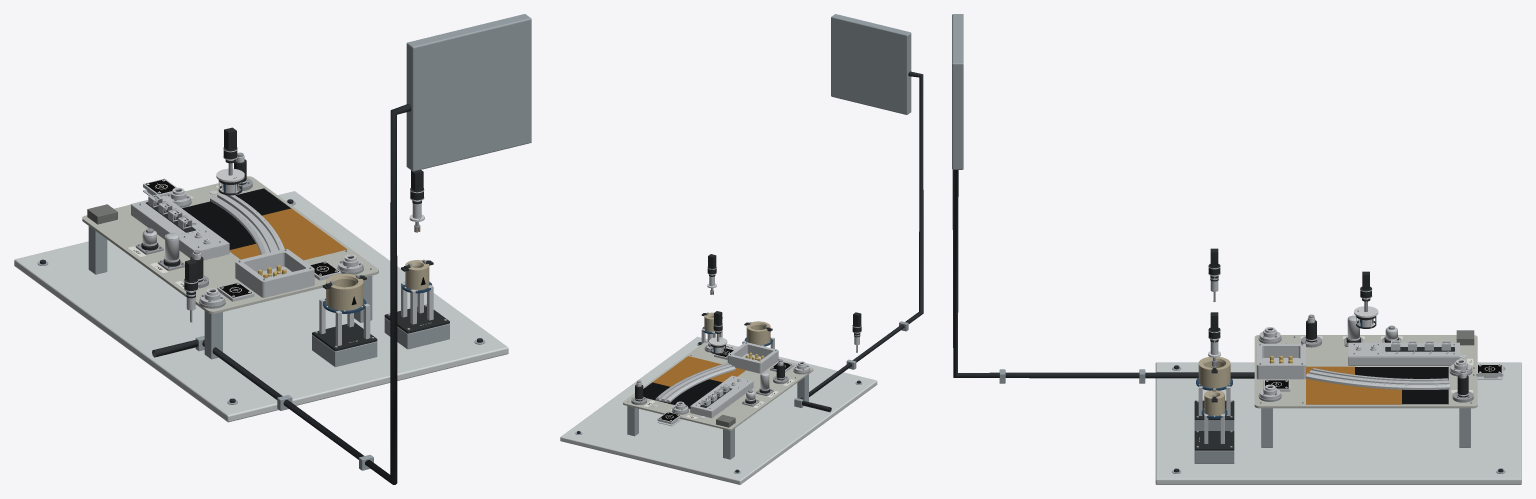
File: rrm_tb1.glb
3 views of the same model, side by side, from view 1: azimuth 30°, elevation 25°; view 2: azimuth 150°, elevation 25°; view 3: azimuth 270°, elevation 25° (orthographic). The views are drawn at different scales.
Parts seen in each view (by area): view 1: RRM cabin wall load-spreading backplate, RRM cabin floor foundation plate, RRM_TB1_Base_plate, RRM cabin floor supply loom, RRM_TB1_SMA_array_housing, RRM_TB1_Right_amber_thermal_surface, RRM_TB1_Marman_curved_double_channel, RRM_TB1_Fastener_block_front_sheet, RRM_TB1_Left_black_thermal_surface, STOW_fdv1_open_guide_shoulder, RRM cabin stowage wall spacer, RRM cabin stowage wall spacer.001 (+7 smaller); view 2: RRM cabin wall load-spreading backplate, RRM cabin floor foundation plate, RRM_TB1_Base_plate, RRM cabin floor supply loom, RRM_TB1_SMA_array_housing, RRM_TB1_Marman_curved_double_channel, RRM_TB1_Right_amber_thermal_surface, RRM_TB1_Fastener_block_front_sheet, RRM_TB1_Left_black_thermal_surface, STOW_fdv1_open_guide_shoulder, RRM_TB1_Fastener_block_back; view 3: RRM cabin wall load-spreading backplate, RRM_TB1_Base_plate, RRM cabin floor supply loom, RRM cabin floor foundation plate, RRM_TB1_Right_amber_thermal_surface, RRM_TB1_SMA_array_housing, RRM_TB1_Marman_curved_double_channel, RRM_TB1_Fastener_block_front_sheet, RRM_TB1_Left_black_thermal_surface, RRM_TB1_Fastener_block_back, STOW_fdv1_open_guide_shoulder, STOW_sma_table_foot (+1 smaller).
Boxes of the visible parts, x1,y1,x2,y2 form: RRM cabin wall load-spreading backplate: [14, 191, 508, 422]; RRM cabin floor foundation plate: [406, 14, 531, 171]; RRM_TB1_Base_plate: [82, 176, 378, 313]; RRM cabin floor supply loom: [152, 103, 411, 484]; RRM_TB1_SMA_array_housing: [235, 249, 314, 297]; RRM_TB1_Right_amber_thermal_surface: [262, 208, 347, 260]; RRM_TB1_Marman_curved_double_channel: [210, 193, 284, 254]; RRM_TB1_Fastener_block_front_sheet: [130, 196, 229, 251]; RRM_TB1_Left_black_thermal_surface: [182, 201, 255, 249]; STOW_fdv1_open_guide_shoulder: [326, 273, 363, 310]; RRM cabin stowage wall spacer: [312, 335, 377, 366]; RRM cabin stowage wall spacer.001: [384, 317, 449, 349]; RRM cabin wall load-spreading backplate: [560, 336, 877, 484]; RRM cabin floor foundation plate: [831, 14, 911, 114]; RRM_TB1_Base_plate: [623, 342, 813, 430]; RRM cabin floor supply loom: [800, 71, 923, 412]; RRM_TB1_SMA_array_housing: [727, 342, 778, 373]; RRM_TB1_Marman_curved_double_channel: [655, 363, 735, 402]; RRM_TB1_Right_amber_thermal_surface: [652, 356, 719, 386]; RRM_TB1_Fastener_block_front_sheet: [690, 375, 753, 411]; RRM_TB1_Left_black_thermal_surface: [667, 379, 722, 408]; STOW_fdv1_open_guide_shoulder: [746, 321, 770, 345]; RRM_TB1_Fastener_block_back: [690, 382, 753, 418]; RRM cabin wall load-spreading backplate: [1155, 362, 1521, 484]; RRM_TB1_Base_plate: [1254, 335, 1477, 408]; RRM cabin floor supply loom: [952, 170, 1254, 378]; RRM cabin floor foundation plate: [952, 14, 963, 169]; RRM_TB1_Right_amber_thermal_surface: [1306, 383, 1401, 404]; RRM_TB1_SMA_array_housing: [1256, 343, 1305, 379]; RRM_TB1_Marman_curved_double_channel: [1305, 368, 1450, 389]; RRM_TB1_Fastener_block_front_sheet: [1348, 342, 1459, 357]; RRM_TB1_Left_black_thermal_surface: [1355, 367, 1448, 380]; RRM_TB1_Fastener_block_back: [1348, 357, 1459, 365]; STOW_fdv1_open_guide_shoulder: [1198, 357, 1230, 388]; STOW_sma_table_foot: [1194, 431, 1234, 450].
Bounding box in the file's own units: 0.6796 × 1 × 1.35.
